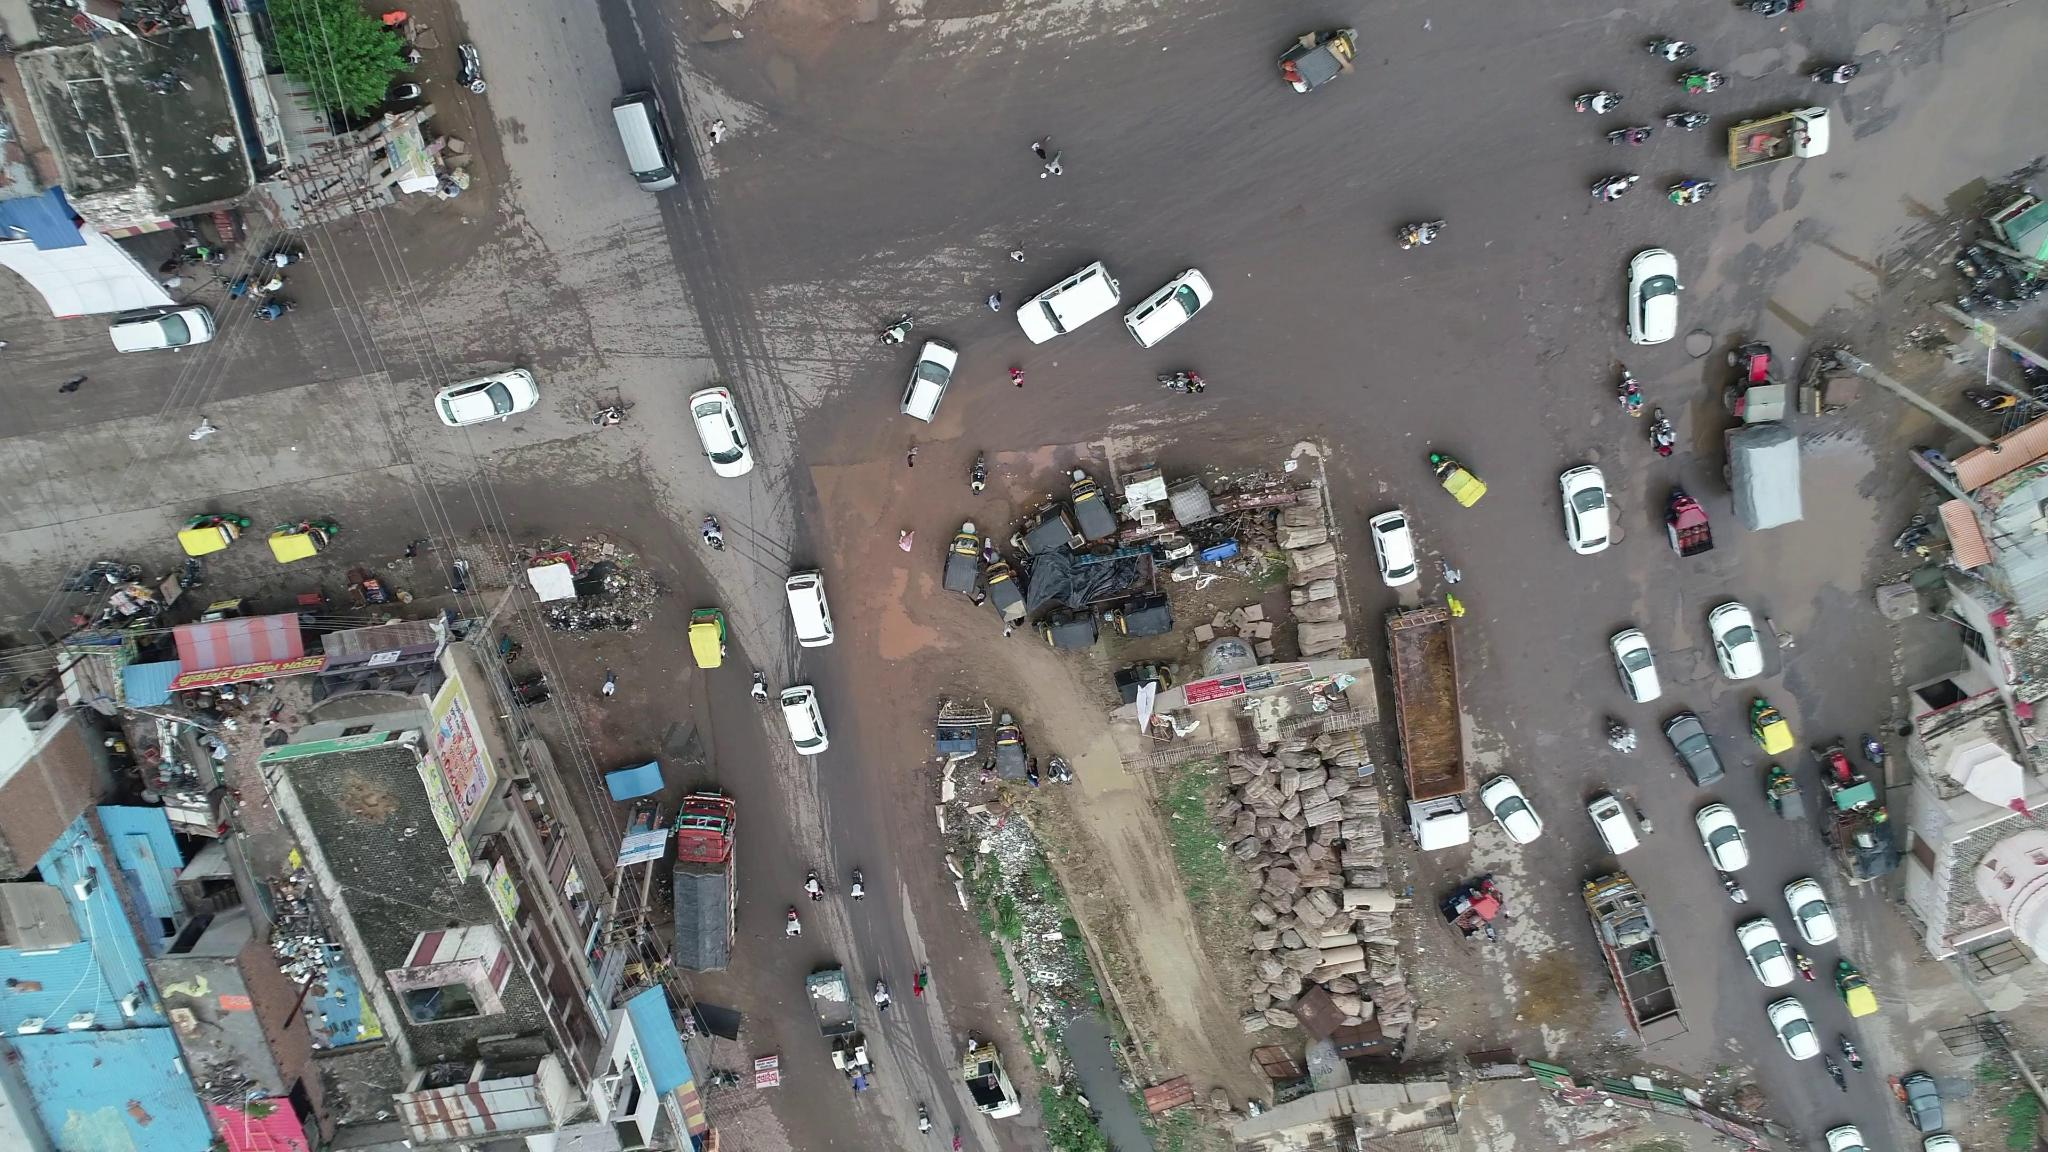Potholes: (1663, 316, 1734, 376)
Waterlogging: (1767, 442, 1885, 620)
